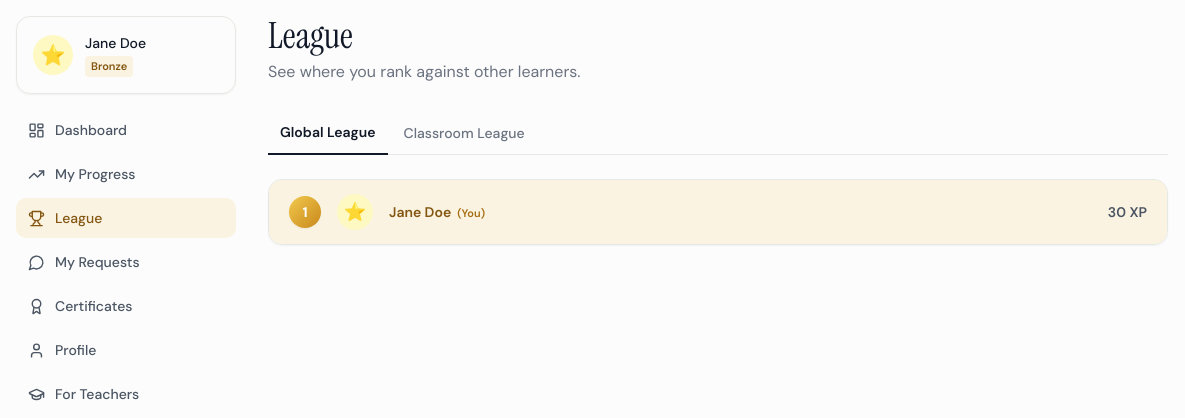
Test case: League › switching to Classroom League shows the course dropdown and fetches the first course by default
This screenshot has width=1185, height=418.
Click the button "Classroom League" at (464, 133), box 392,112 -> 537,154
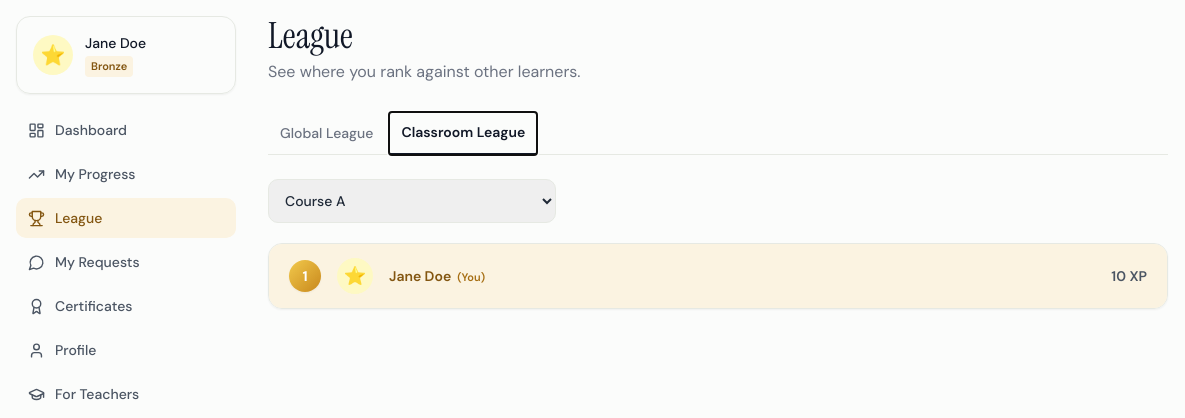
Now the dropdown is shown, box 268,179 -> 556,223
